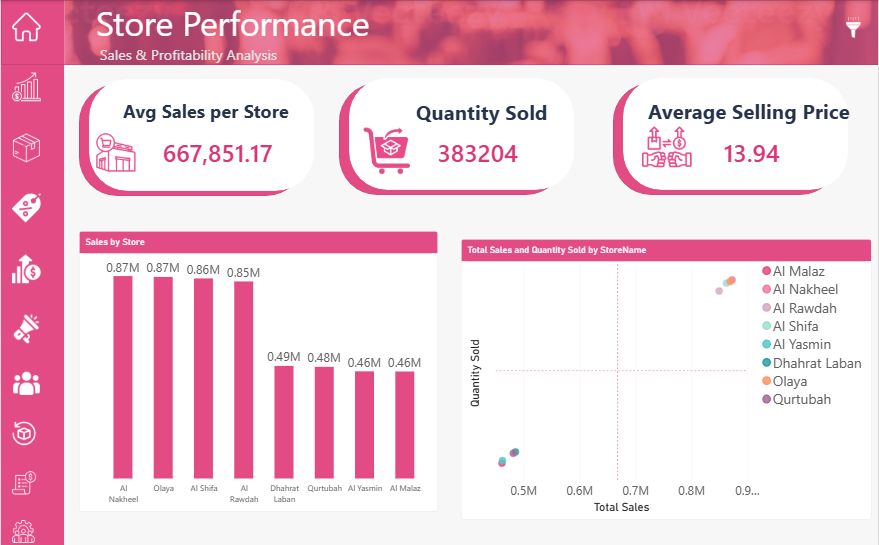

The dashboard page shown, as its layout file describes it:
{"tool":"powerbi","page":{"name":"Store Performance","canvas":[2294,1440],"ordinal":2},"visuals":[{"type":"image","box":[30,178.1,75,98.3],"z":0,"group":"g7"},{"type":"group","id":"g1","title":"Group 1","box":[885,204.6,616,306],"z":0,"group":"g5"},{"type":"group","id":"g2","title":"Group 1","box":[1603.3,204.8,616,306],"z":0,"group":"g6"},{"type":"group","id":"g3","title":"Group 1","box":[205,205.6,616,306],"z":0,"group":"g4"},{"type":"group","id":"g4","title":"Group 2","box":[205,205.6,630,317],"z":0},{"type":"shape","box":[885,217.4,589.7,292.9],"z":0,"group":"g1"},{"type":"shape","box":[1603.3,217.6,589.7,292.9],"z":0,"group":"g2"},{"type":"shape","box":[205,218.4,589.7,292.9],"z":0,"group":"g3"},{"type":"image","title":"filter shape","box":[2206,112,73.3,56.7],"z":1000},{"type":"shape","box":[910.8,204.6,589.7,292.9],"z":1000,"group":"g1"},{"type":"shape","box":[1629.1,204.8,589.7,292.9],"z":1000,"group":"g2"},{"type":"shape","box":[230.8,205.6,589.7,292.9],"z":1000,"group":"g3"},{"type":"card","fields":{"Values":["DimProducts.Quantity Sold"]},"box":[1025.7,269.9,443.3,251.7],"z":1000,"group":"g5"},{"type":"image","box":[1678.3,319.8,130,130],"z":1000,"group":"g6"},{"type":"image","box":[30,336.3,75,98.3],"z":1000,"group":"g7"},{"type":"image","box":[242.8,343.4,120,106.7],"z":1000,"group":"g4"},{"type":"group","id":"g5","title":"Group 3","box":[885,204.6,630.7,317],"z":2000},{"type":"card","fields":{"Values":["DimProducts.Average Selling Price"]},"box":[1744,270.1,443.3,251.7],"z":2000,"group":"g6"},{"type":"card","fields":{"Values":["DimProducts.Average Sales per Store"]},"box":[345.7,270.9,443.3,251.7],"z":2000,"group":"g4"},{"type":"image","box":[945,331.3,130,130],"z":2000,"group":"g5"},{"type":"image","box":[30,494.4,75,98.3],"z":2000,"group":"g7"},{"type":"shape","box":[0,0,165,1440],"z":3000},{"type":"image","box":[30,20,75,98.3],"z":3000,"group":"g7"},{"type":"textbox","box":[1694.4,253.7,540,100],"z":3000,"group":"g6"},{"type":"textbox","box":[1087.7,255.9,428,108],"z":3000,"group":"g5"},{"type":"textbox","box":[321,256.4,514,110],"z":3000,"group":"g4"},{"type":"image","box":[166.7,0,2393.3,170],"z":4000},{"type":"image","box":[30,652.6,75,98.3],"z":4000,"group":"g7"},{"type":"shape","box":[0,0,2396.7,170],"z":5000},{"type":"image","box":[30,810.7,75,98.3],"z":5000,"group":"g7"},{"type":"textbox","box":[250,0,1050,240],"z":6000},{"type":"image","box":[30,968.9,75,70],"z":6000,"group":"g7"},{"type":"image","box":[2430,0,52.5,125],"z":7000},{"type":"image","box":[30,1098.7,63.3,70],"z":7000,"group":"g7"},{"type":"group","id":"g6","title":"Group 2","box":[1603.3,204.8,630,316.7],"z":8000},{"type":"image","box":[30,1228.5,63.3,70],"z":8000,"group":"g7"},{"type":"scatterChart","fields":{"Series":["DimStores.StoreName"],"X":["DimProducts.Total Sales"],"Y":["DimProducts.Quantity Sold"]},"box":[1205,625,1075,735],"z":9000},{"type":"image","box":[30,1358.3,63.3,70],"z":9000,"group":"g7"},{"type":"columnChart","title":"Sales by Store","fields":{"Category":["DimStores.StoreName"],"Y":["DimProducts.Total Sales"]},"box":[205,605,940,735],"z":12000},{"type":"image","title":"filter","box":[2193.3,43.3,75,55],"z":13000},{"type":"group","id":"g7","title":"pages","box":[30,20,75,1408.3],"z":14000}]}

Visuals, with their boxes on the page's 2294x1440 design canvas (x1, y1, x2, y2). These are canvas units, not pixel positions in the 879x545 screenshot, which may show the page scaled, cropped or inside an application window:
image: [left=30, top=178, right=105, bottom=276]
"Group 1" group: [left=885, top=205, right=1501, bottom=511]
"Group 1" group: [left=1603, top=205, right=2219, bottom=511]
"Group 1" group: [left=205, top=206, right=821, bottom=512]
"Group 2" group: [left=205, top=206, right=835, bottom=523]
shape: [left=885, top=217, right=1475, bottom=510]
shape: [left=1603, top=218, right=2193, bottom=510]
shape: [left=205, top=218, right=795, bottom=511]
"filter shape" image: [left=2206, top=112, right=2279, bottom=169]
shape: [left=911, top=205, right=1500, bottom=498]
shape: [left=1629, top=205, right=2219, bottom=498]
shape: [left=231, top=206, right=820, bottom=498]
card - DimProducts.Quantity Sold: [left=1026, top=270, right=1469, bottom=522]
image: [left=1678, top=320, right=1808, bottom=450]
image: [left=30, top=336, right=105, bottom=435]
image: [left=243, top=343, right=363, bottom=450]
"Group 3" group: [left=885, top=205, right=1516, bottom=522]
card - DimProducts.Average Selling Price: [left=1744, top=270, right=2187, bottom=522]
card - DimProducts.Average Sales per Store: [left=346, top=271, right=789, bottom=523]
image: [left=945, top=331, right=1075, bottom=461]
image: [left=30, top=494, right=105, bottom=593]
shape: [left=0, top=0, right=165, bottom=1440]
image: [left=30, top=20, right=105, bottom=118]
textbox: [left=1694, top=254, right=2234, bottom=354]
textbox: [left=1088, top=256, right=1516, bottom=364]
textbox: [left=321, top=256, right=835, bottom=366]
image: [left=167, top=0, right=2560, bottom=170]
image: [left=30, top=653, right=105, bottom=751]
shape: [left=0, top=0, right=2397, bottom=170]
image: [left=30, top=811, right=105, bottom=909]
textbox: [left=250, top=0, right=1300, bottom=240]
image: [left=30, top=969, right=105, bottom=1039]
image: [left=2430, top=0, right=2482, bottom=125]
image: [left=30, top=1099, right=93, bottom=1169]
"Group 2" group: [left=1603, top=205, right=2233, bottom=522]
image: [left=30, top=1228, right=93, bottom=1298]
scatterChart - DimStores.StoreName x DimProducts.Total Sales: [left=1205, top=625, right=2280, bottom=1360]
image: [left=30, top=1358, right=93, bottom=1428]
"Sales by Store" columnChart: [left=205, top=605, right=1145, bottom=1340]
"filter" image: [left=2193, top=43, right=2268, bottom=98]
"pages" group: [left=30, top=20, right=105, bottom=1428]
